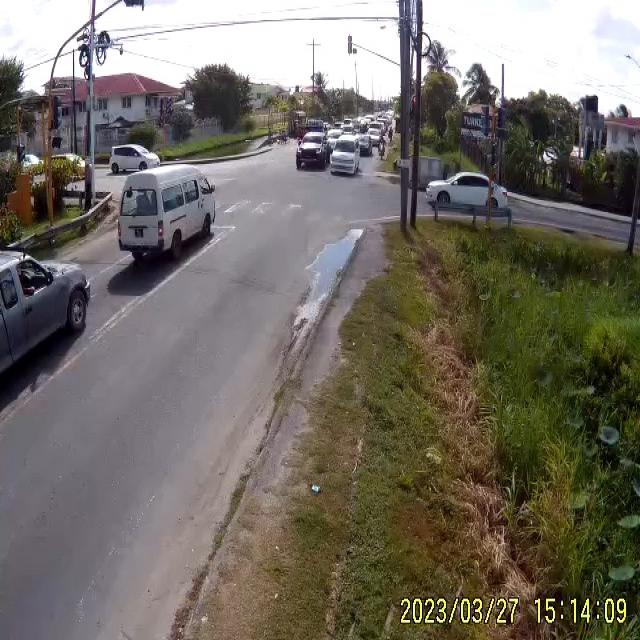car: (0, 250, 92, 437), (116, 166, 215, 262), (425, 172, 509, 217), (108, 144, 161, 173), (329, 140, 360, 178), (295, 140, 327, 172), (356, 134, 372, 154)
